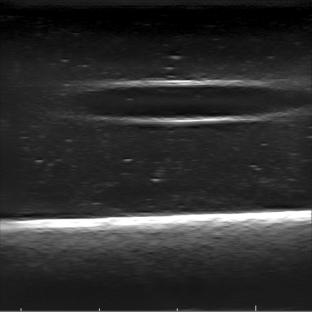vessel: (71, 78, 303, 125)
